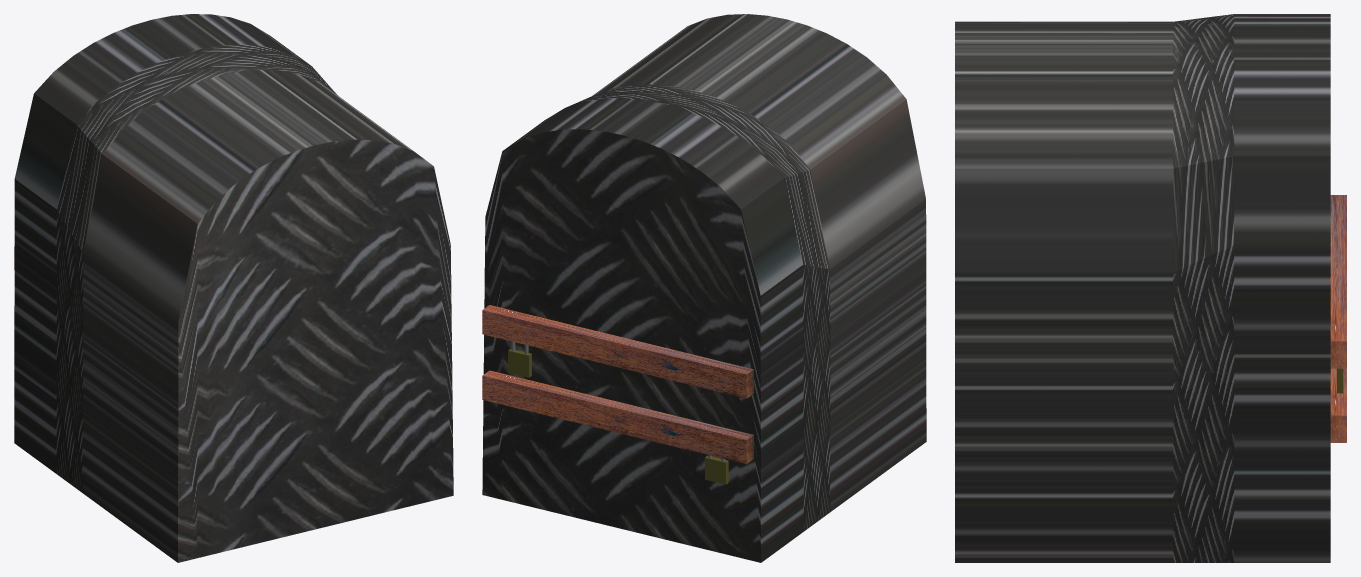
Rendered from puerta.fbx.
3 renders of one model, left to right at view 1: azimuth 30°, elevation 25°; view 2: azimuth 150°, elevation 25°; view 3: azimuth 270°, elevation 25°, orthographic. The views are drawn at different scales.
Visible parts, largest first — view 1: Cubo.369; view 2: Cubo.369, Cubo.370, Cubo.371, Cubo.372, Cubo.373; view 3: Cubo.369, Cubo.370, Cubo.371.
Part boxes in pixels (bbox=[...]): Cubo.369: bbox=[14, 14, 453, 562]; Cubo.369: bbox=[482, 14, 926, 562]; Cubo.370: bbox=[482, 305, 753, 398]; Cubo.371: bbox=[482, 370, 753, 464]; Cubo.372: bbox=[705, 455, 728, 484]; Cubo.373: bbox=[508, 349, 531, 377]; Cubo.369: bbox=[955, 14, 1330, 562]; Cubo.370: bbox=[1330, 195, 1346, 368]; Cubo.371: bbox=[1330, 368, 1346, 442].
Size of the model in its own units: 1187 by 1604 by 1274.
